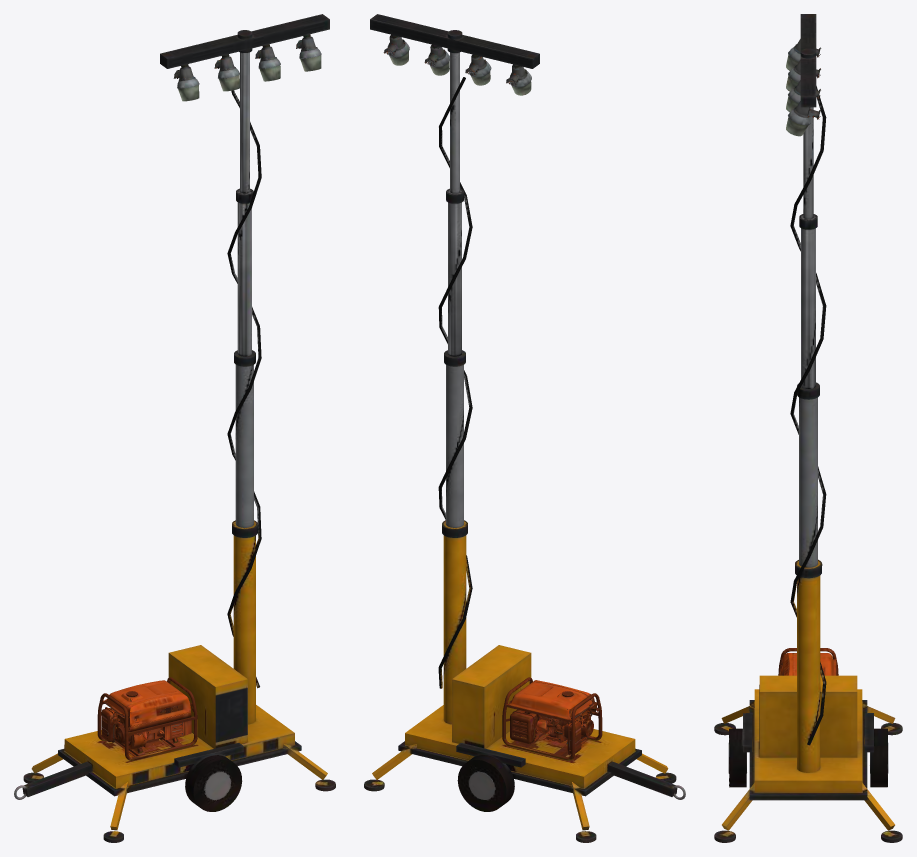
Rendered from floodlight_tower.glb.
The picture shows the model from 3 angles, left to right: view 1: azimuth 30°, elevation 25°; view 2: azimuth 150°, elevation 25°; view 3: azimuth 270°, elevation 25°; orthographic projection. The views are drawn at different scales.
Visible parts, largest first — view 1: floodlight_tower; view 2: floodlight_tower; view 3: floodlight_tower.
Boxes of the visible parts, <box> form: floodlight_tower: <box>14,14,335,842</box>; floodlight_tower: <box>364,14,685,842</box>; floodlight_tower: <box>714,14,902,842</box>.
Size of the model in its own units: 3.83 by 8.62 by 1.92.
Materials: 2 (2 with a texture image).
